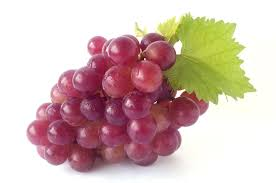Red Grapes: (31, 47, 214, 158)
